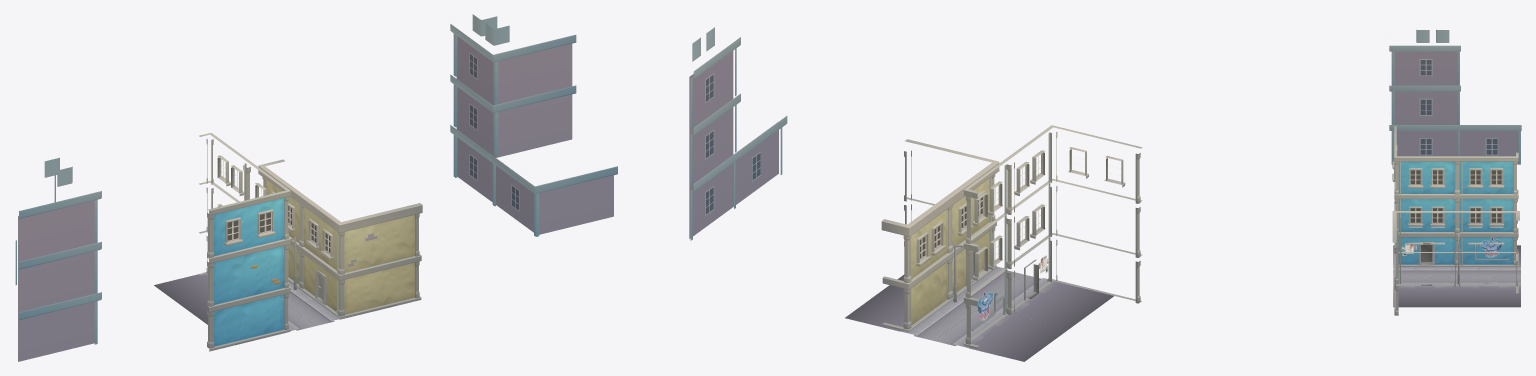
The model's file is UrbanBuilding01.prefab.glb.
3 views of the same model, side by side, from view 1: azimuth 30°, elevation 25°; view 2: azimuth 150°, elevation 25°; view 3: azimuth 270°, elevation 25° (orthographic). The views are drawn at different scales.
Visible parts, largest first — view 1: FarBackBuilding02, Apartments04, Building02, UrbanBuilding01, Road02; view 2: FarBackBuilding02, Apartments04, Building02, Road02, UrbanBuilding01; view 3: Building02, FarBackBuilding02, Road02, UrbanBuilding01, Apartments04, Graffiti04, Pipes, Graffiti12.
Boxes of the visible parts, left/top/right/bottom form: FarBackBuilding02: left=15, top=14, right=617, bottom=361; Apartments04: left=258, top=159, right=422, bottom=319; Building02: left=199, top=133, right=290, bottom=351; UrbanBuilding01: left=194, top=289, right=396, bottom=344; Road02: left=154, top=272, right=299, bottom=314; FarBackBuilding02: left=689, top=27, right=787, bottom=240; Apartments04: left=881, top=139, right=999, bottom=331; Building02: left=963, top=125, right=1142, bottom=348; Road02: left=845, top=285, right=1069, bottom=361; UrbanBuilding01: left=897, top=266, right=1113, bottom=328; Building02: left=1392, top=126, right=1518, bottom=266; FarBackBuilding02: left=1389, top=29, right=1521, bottom=164; Road02: left=1457, top=245, right=1520, bottom=307; UrbanBuilding01: left=1393, top=245, right=1457, bottom=307; Apartments04: left=1392, top=211, right=1519, bottom=315; Graffiti04: left=1480, top=237, right=1502, bottom=257; Pipes: left=1461, top=244, right=1508, bottom=265; Graffiti12: left=1401, top=243, right=1416, bottom=255.
Bounding box in the file's own units: 76.34 × 27.14 × 18.69.
4 materials, 3 textured.
